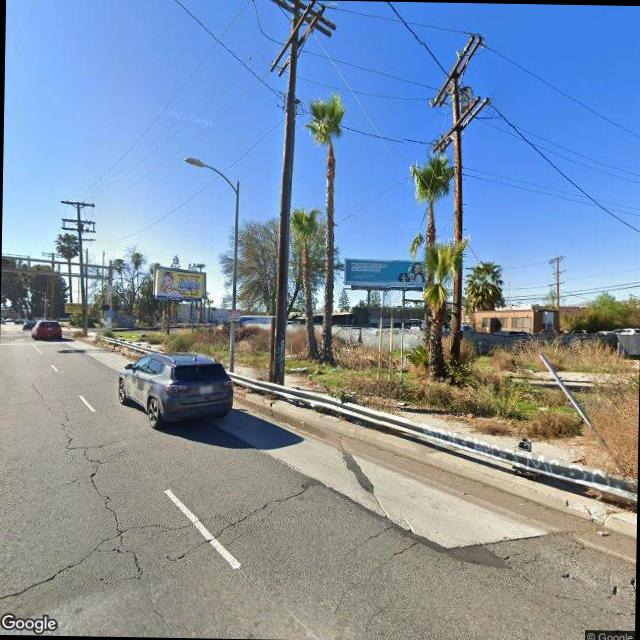crack: (0, 470, 315, 603), (34, 388, 148, 565)
